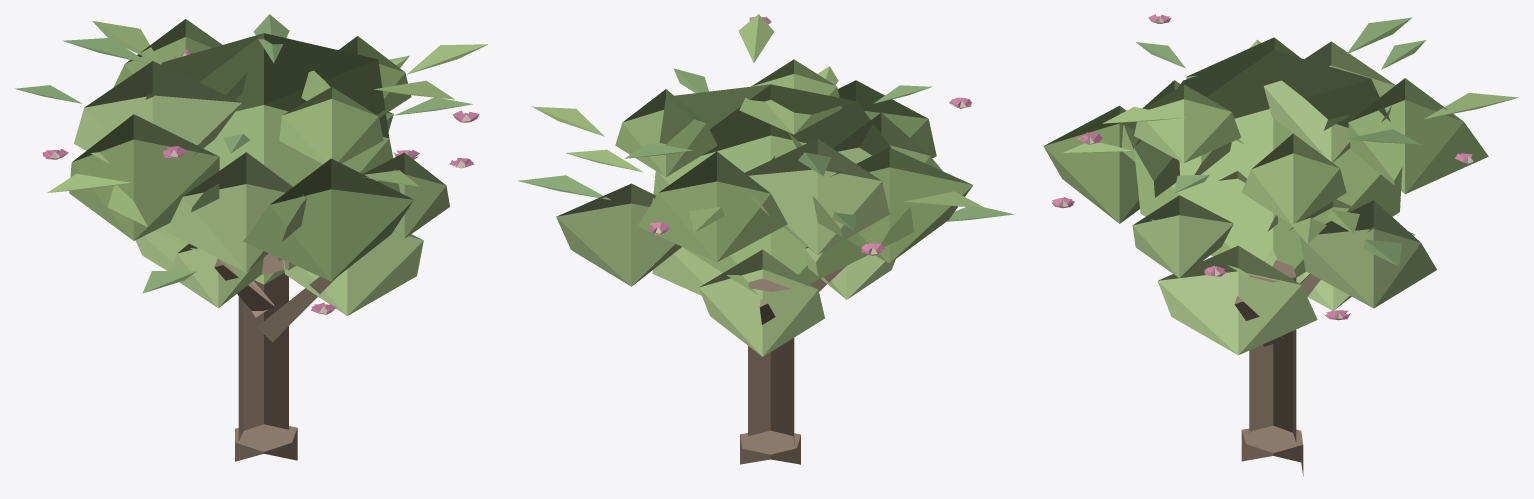
The model's file is shu.gaoshan@flowering__bloom.glb.
3 views of the same model, side by side, from view 1: azimuth 30°, elevation 25°; view 2: azimuth 150°, elevation 25°; view 3: azimuth 270°, elevation 25° (orthographic). The views are drawn at different scales.
Parts seen in each view (by area): view 1: shu.gaoshan@flowering__bloom; view 2: shu.gaoshan@flowering__bloom; view 3: shu.gaoshan@flowering__bloom.
Part boxes in pixels (box(x1,y1,x2,y2)): shu.gaoshan@flowering__bloom: box(14, 14, 487, 461); shu.gaoshan@flowering__bloom: box(518, 14, 1013, 464); shu.gaoshan@flowering__bloom: box(1043, 14, 1518, 475).
Bounding box in the file's own units: 15.44 × 13.09 × 14.14.
